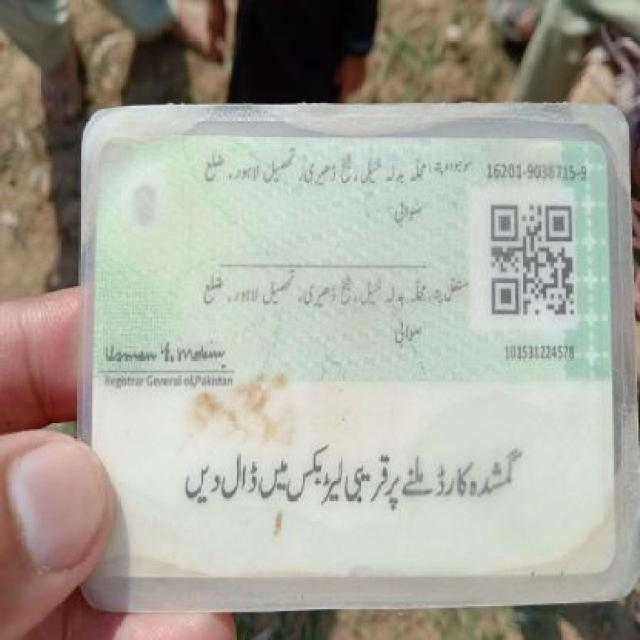Back: (83, 128, 623, 594)
